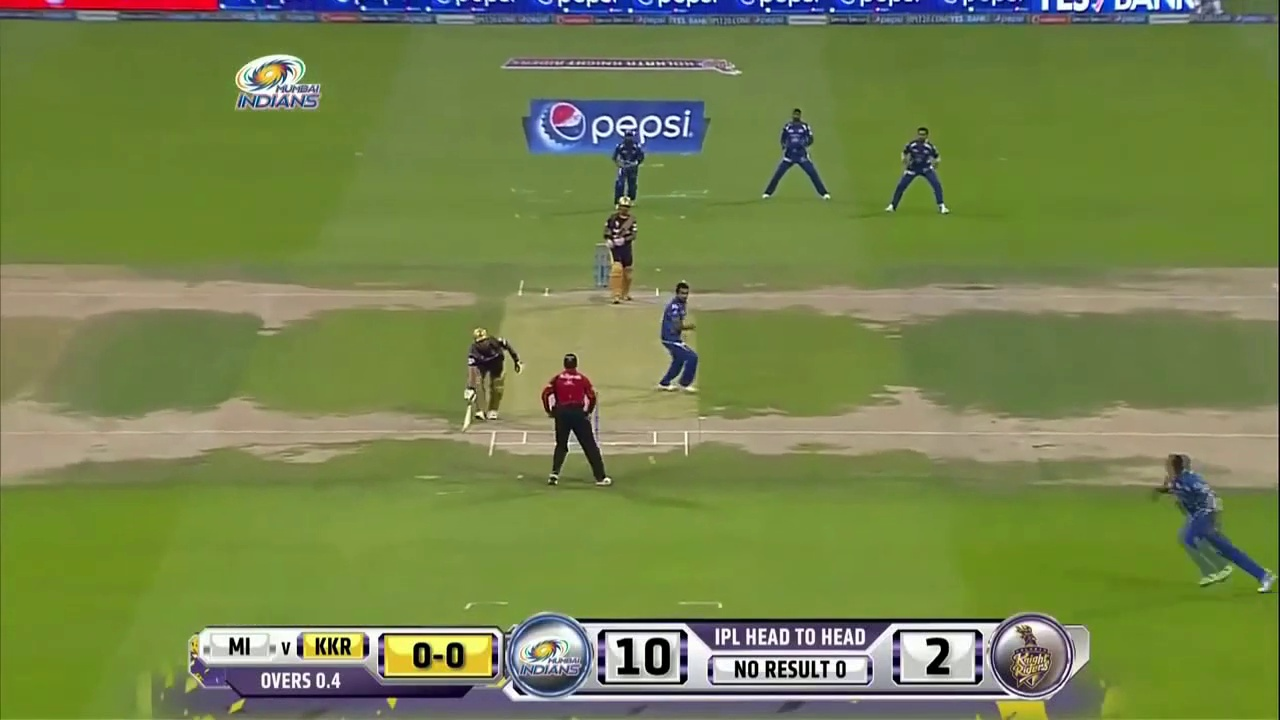bat: (464, 407, 473, 429)
